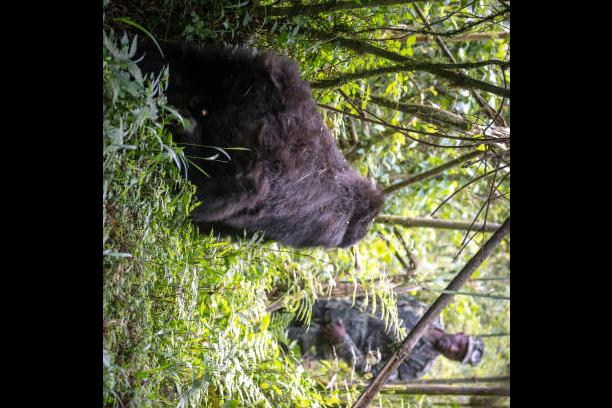goriile_montagne: (169, 39, 401, 266)
